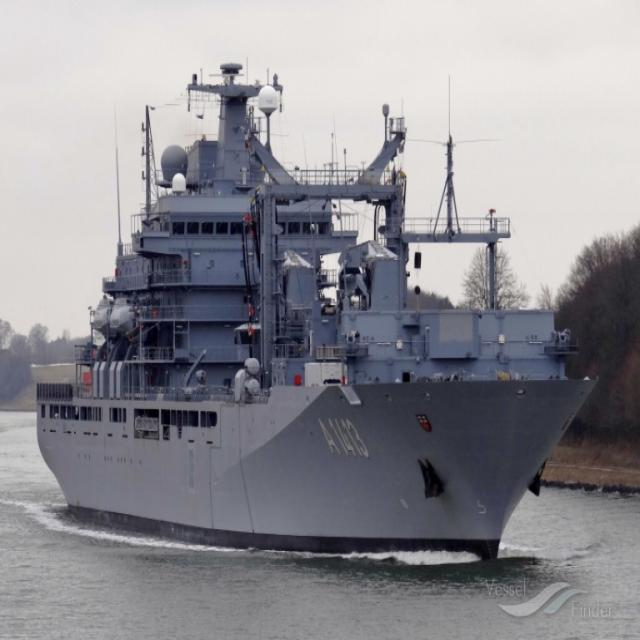OCR: (310, 409, 372, 464)
